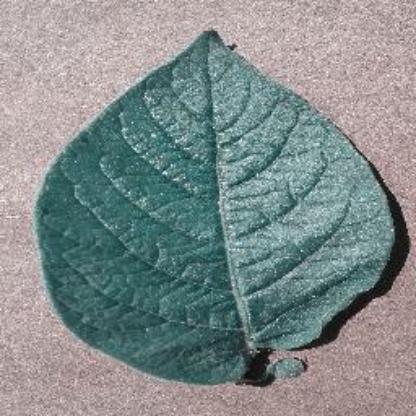Healthy-plant: (28, 25, 397, 388)
